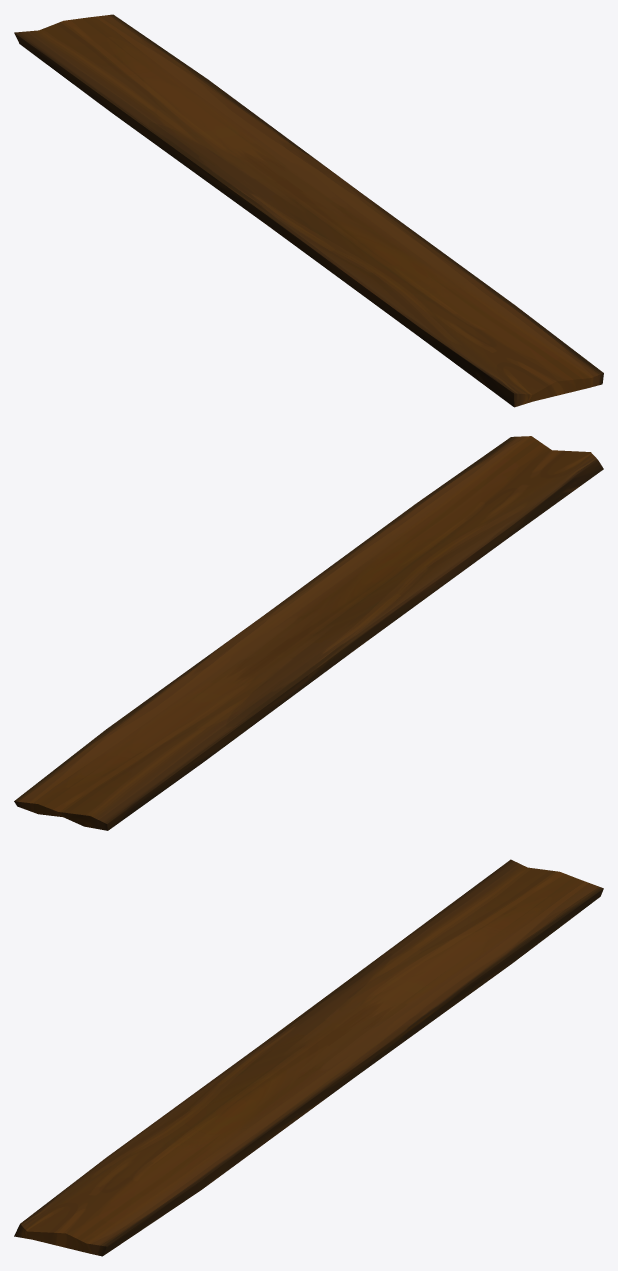
The model's file is Wood_2.fbx.
3 views of the same model, one above another, from view 1: azimuth 30°, elevation 25°; view 2: azimuth 150°, elevation 25°; view 3: azimuth 330°, elevation 25° (orthographic).
Parts seen in each view (by area): view 1: pasted__pCube1; view 2: pasted__pCube1; view 3: pasted__pCube1.
Part boxes in pixels (x1,y1,x2,y2): pasted__pCube1: (14, 14, 603, 407); pasted__pCube1: (14, 436, 603, 830); pasted__pCube1: (14, 859, 603, 1256).
Size of the model in its own units: 104 by 17.7 by 925.
Materials: 1 (1 with a texture image).
